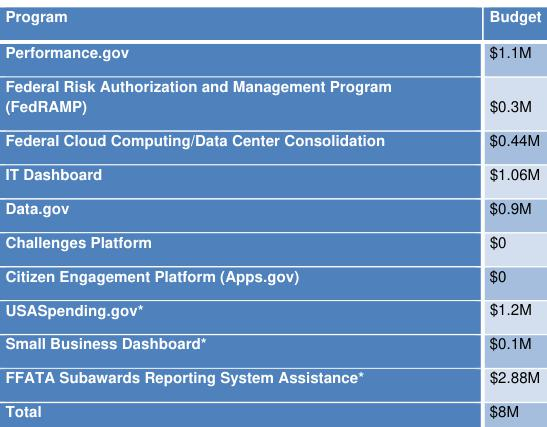table: (4, 4, 540, 420)
table column: (4, 4, 439, 420), (439, 4, 540, 420)
table column header: (4, 4, 540, 32)
table row: (4, 68, 540, 122), (4, 32, 540, 68), (4, 155, 540, 189), (4, 189, 540, 223), (4, 223, 540, 257), (4, 257, 540, 291), (4, 291, 540, 325), (4, 325, 540, 359), (4, 359, 540, 393), (4, 122, 540, 155), (4, 4, 540, 32), (4, 393, 540, 420)
